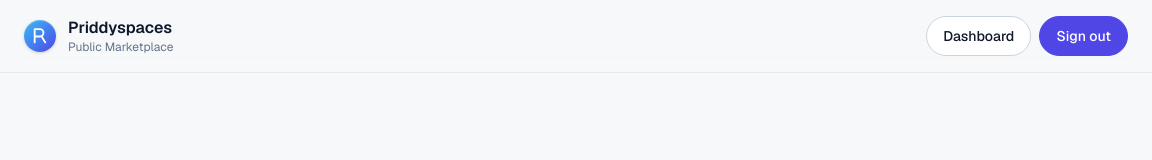
Test: logout flows › signs out from the public topbar without leaving the current public page
Click the button "Sign out" at point(1084, 36), box x1=1039 y1=16 x2=1128 y2=56
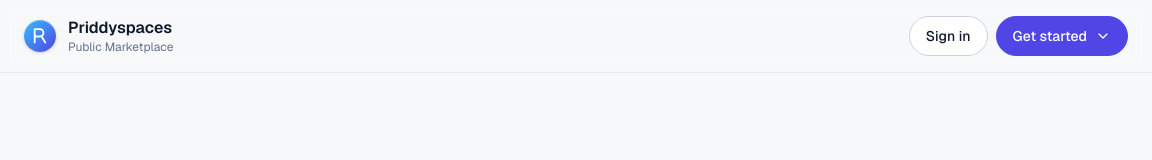
Now the text "Sign in" is shown, box x1=909 y1=16 x2=988 y2=56
Now the text "Get started" is shown, box x1=996 y1=16 x2=1128 y2=56
